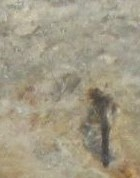Exposed reinforcement: (99, 99, 109, 167)
